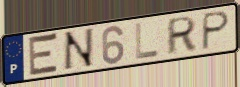6: (100, 24, 126, 66)
E: (28, 31, 60, 79)
L: (134, 21, 161, 62)
N: (61, 27, 96, 74)
P: (200, 9, 232, 52)
R: (165, 15, 198, 57)
